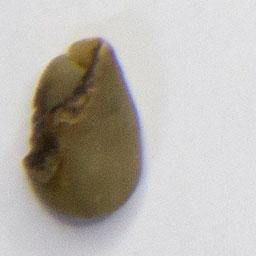defect: (18, 33, 147, 223)
